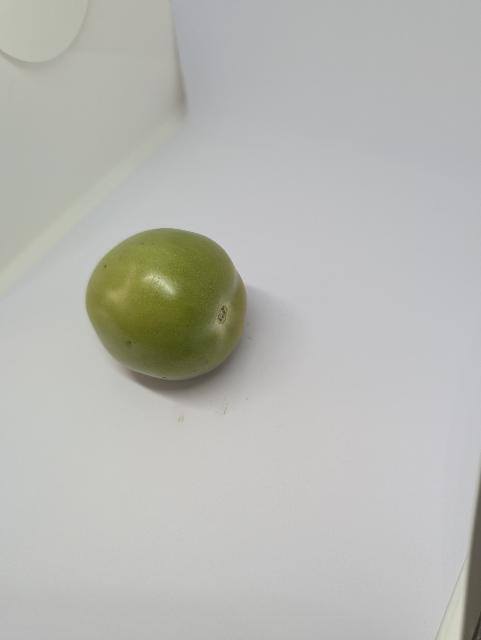green: (84, 227, 253, 384)
